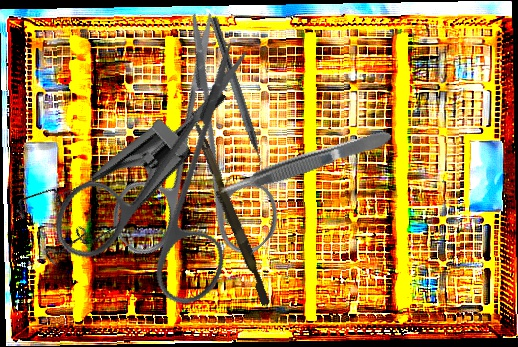Chopper: (198, 14, 272, 181)
Iris Scissors: (43, 6, 350, 313), (17, 39, 316, 337)
Pusher: (183, 114, 275, 306)
Speculum: (0, 33, 229, 293)
Tissue Forceps: (213, 126, 395, 202)
